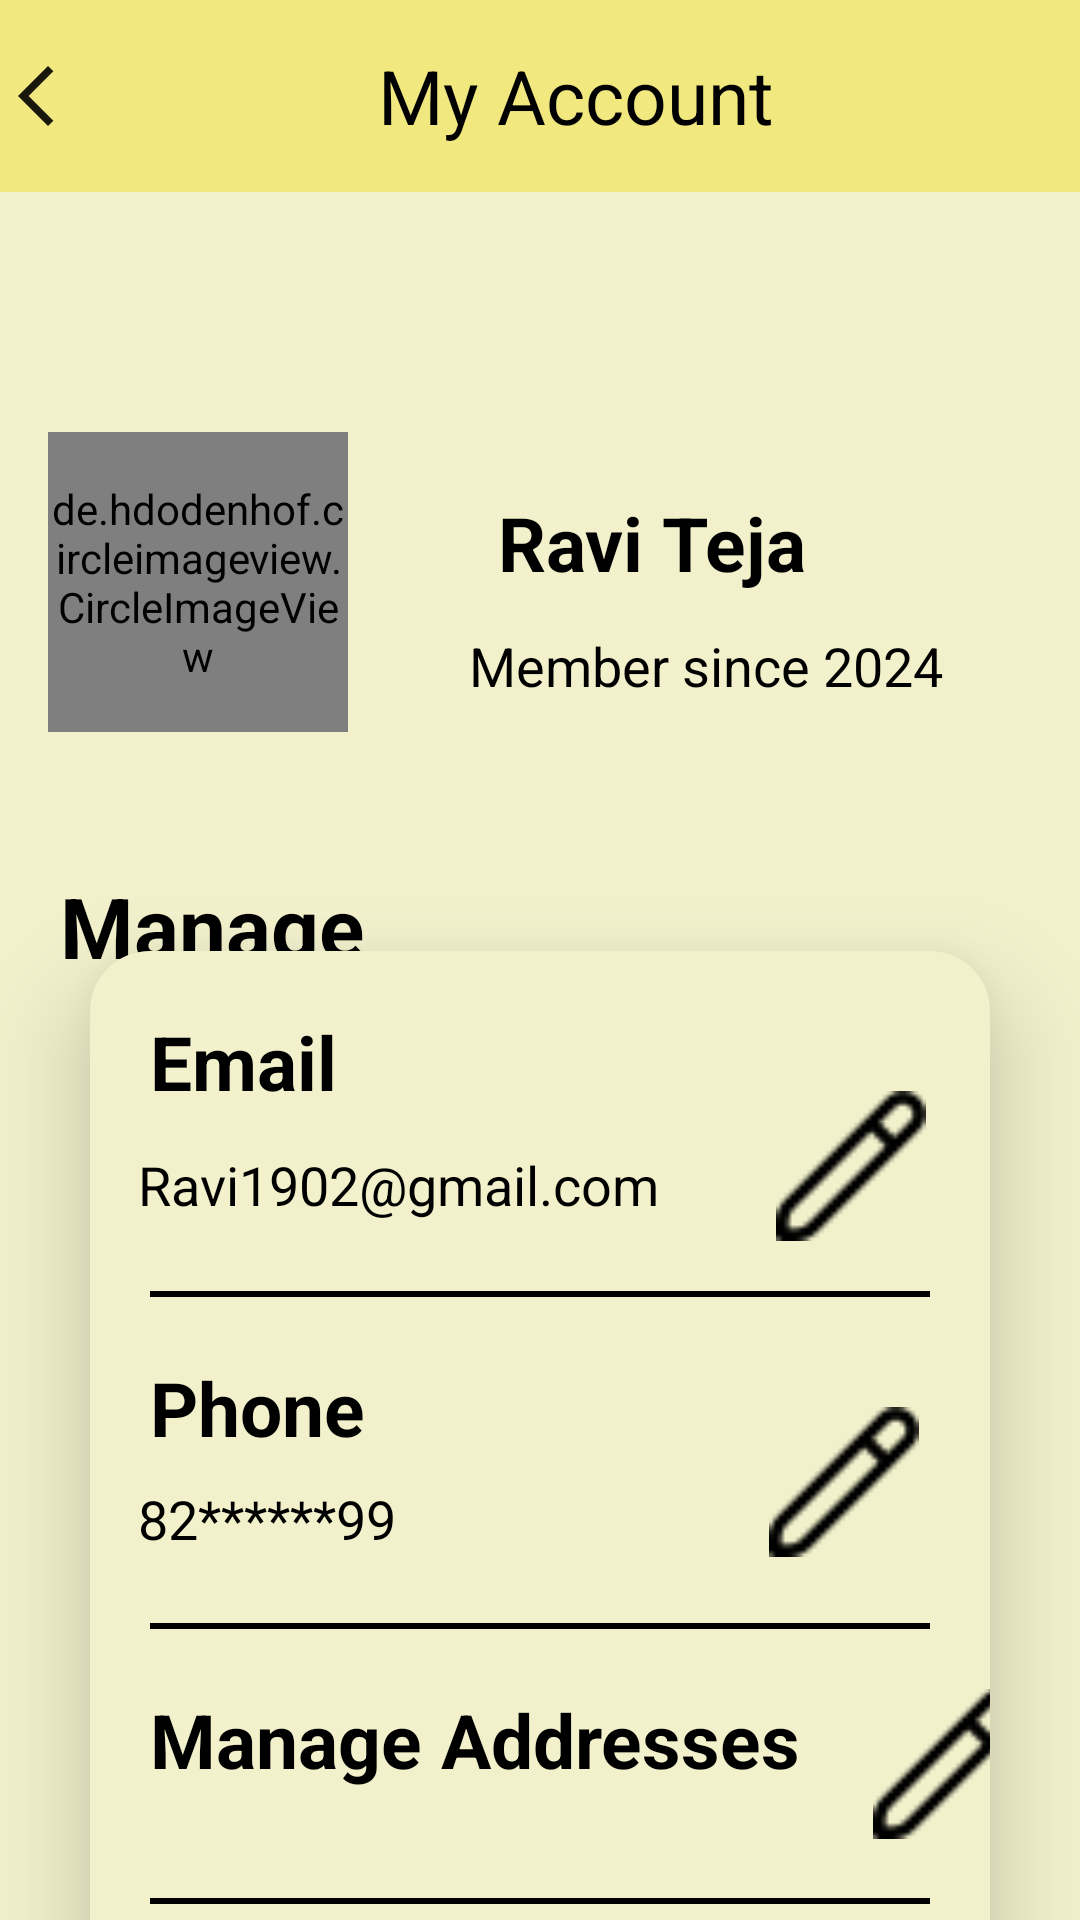

Screen size 1080px x 1920px. Icon name, then its box in pixels as (x1, y1, x2, y2):
back: (18, 66, 53, 126)
